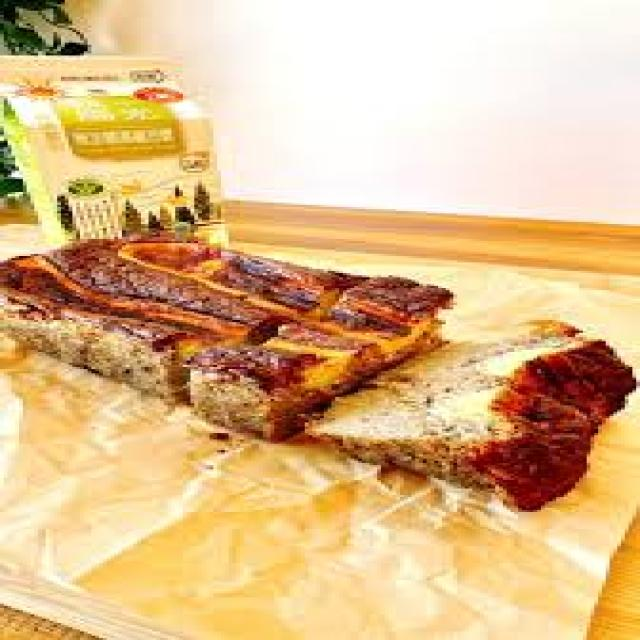TongYi_UnsweetenedHighFiberSoyMilk: (1, 53, 228, 231)
